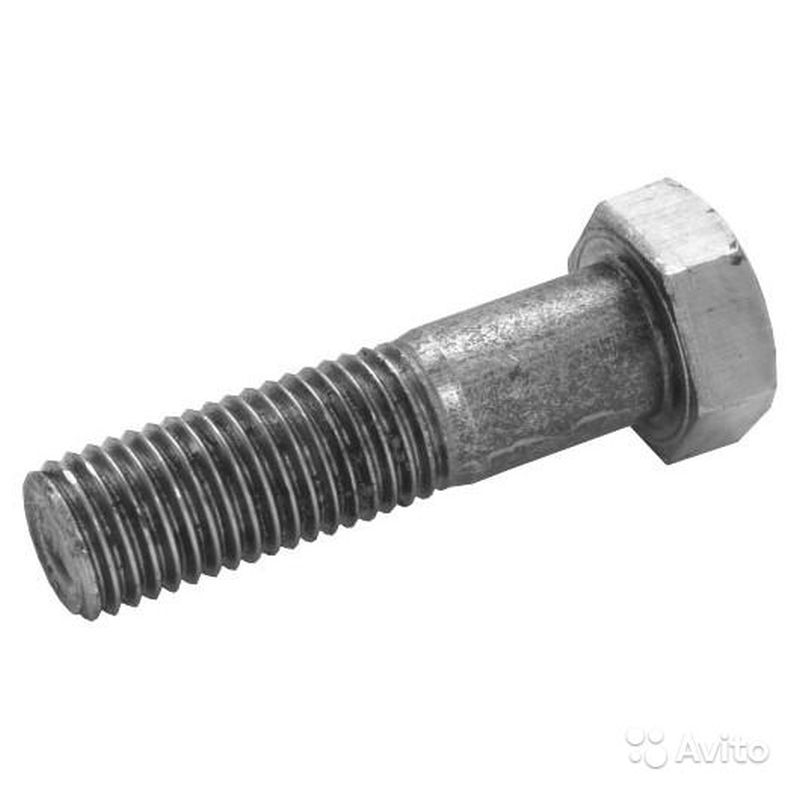screw: (23, 179, 780, 623)
